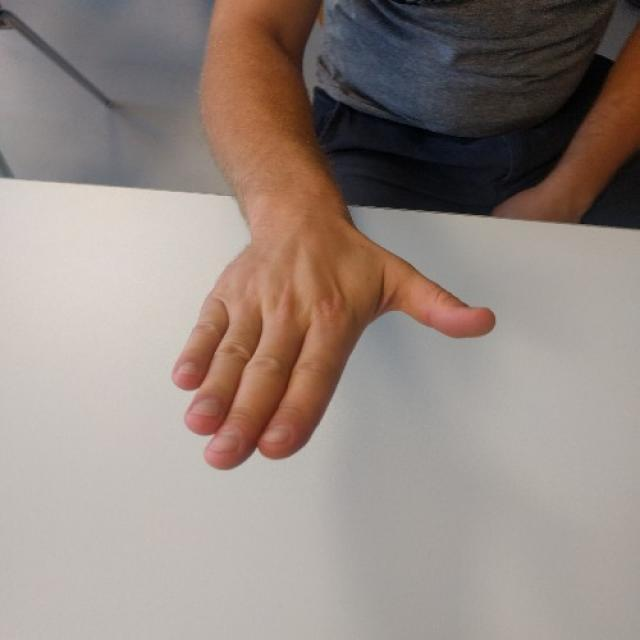paper: (170, 239, 500, 473)
